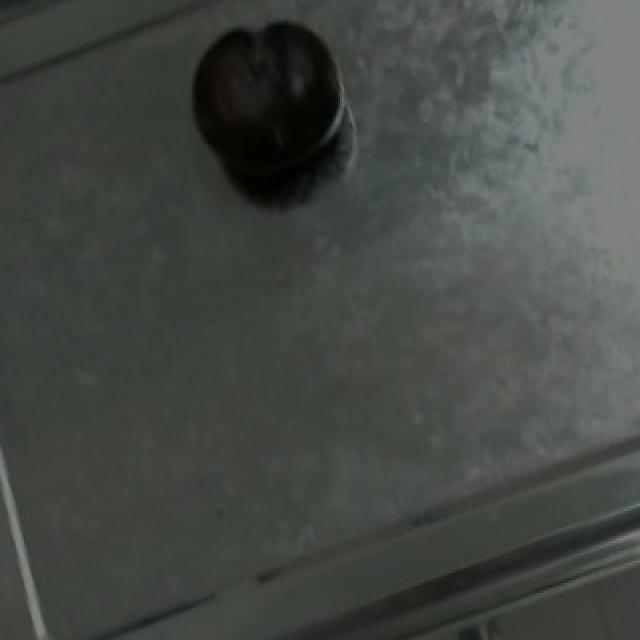Fruit: (170, 2, 358, 204)
